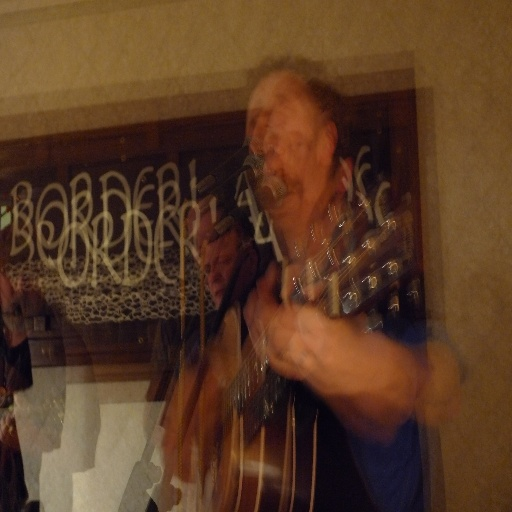hand: (257, 280, 450, 453)
